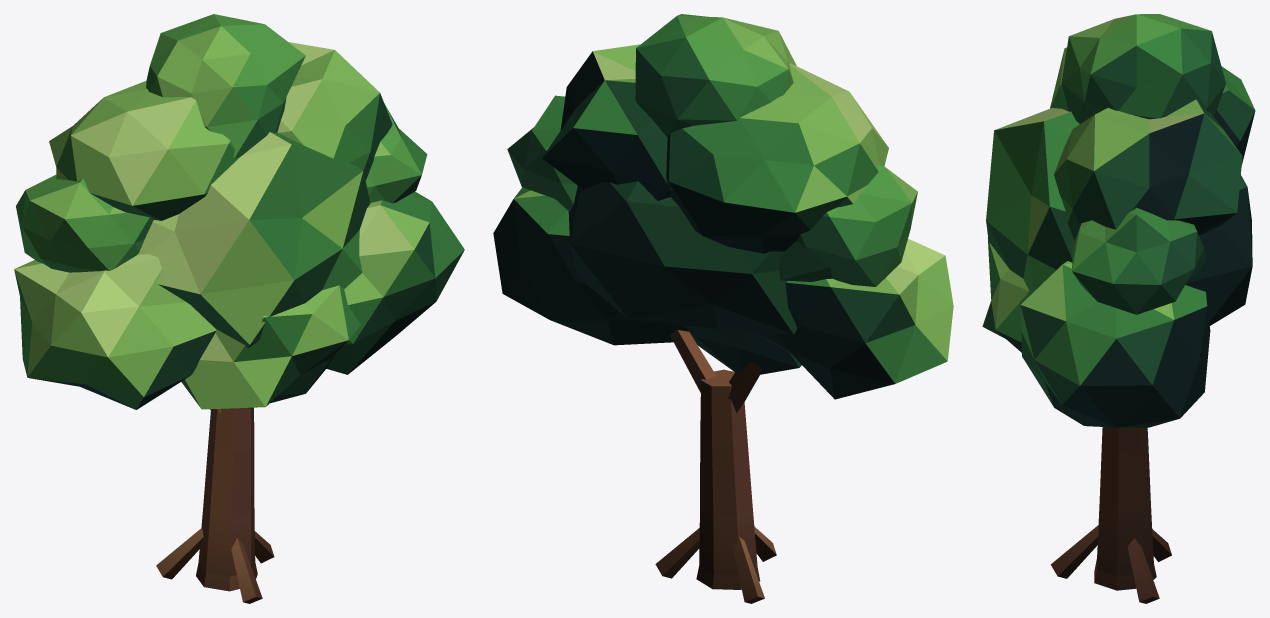
Rendered from tree_oak.glb.
3 views of the same model, side by side, from view 1: azimuth 30°, elevation 25°; view 2: azimuth 150°, elevation 25°; view 3: azimuth 270°, elevation 25° (orthographic). The views are drawn at different scales.
Parts seen in each view (by area): view 1: tree_oak; view 2: tree_oak; view 3: tree_oak.
Boxes of the visible parts, box(x1,y1,x2,y2) form: tree_oak: box(14, 14, 464, 603); tree_oak: box(493, 14, 953, 603); tree_oak: box(982, 14, 1255, 603).
Bounding box in the file's own units: 1.99 × 2.48 × 1.08.
